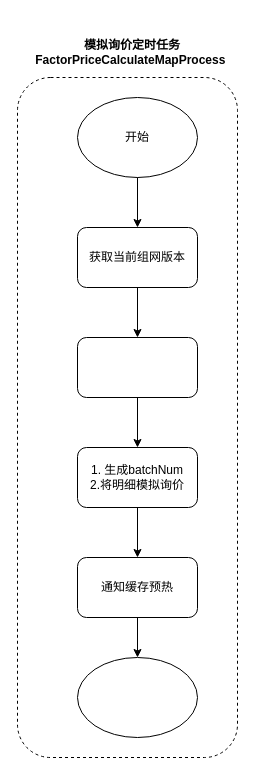
The diagram is 265 pixels wide and 775 high, and some of its shapes have lost their labels. Here are the shapes that lost their labels. From the top down, the centre of each, then its label:
At (137,367): "查询组网版本对应的明细".
At (137,697): "结束".
